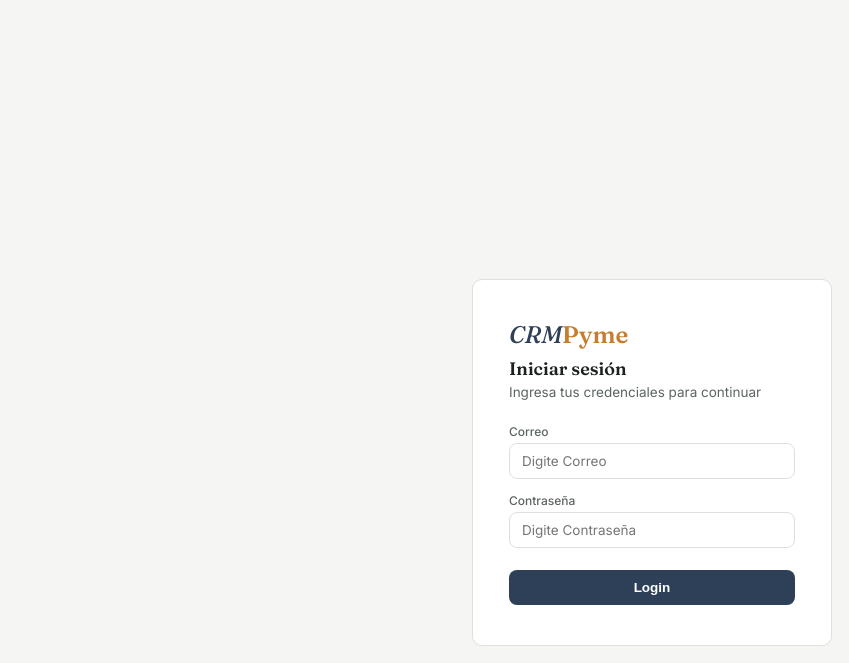
Test case: LoginPage — login exitoso › CP-04: rol gerente redirige a "Dashboard Gerente"
This screenshot has width=849, height=663.
Type "test@crm.local" into the field labelled "Correo" at (652, 460), box [509,442,795,478]
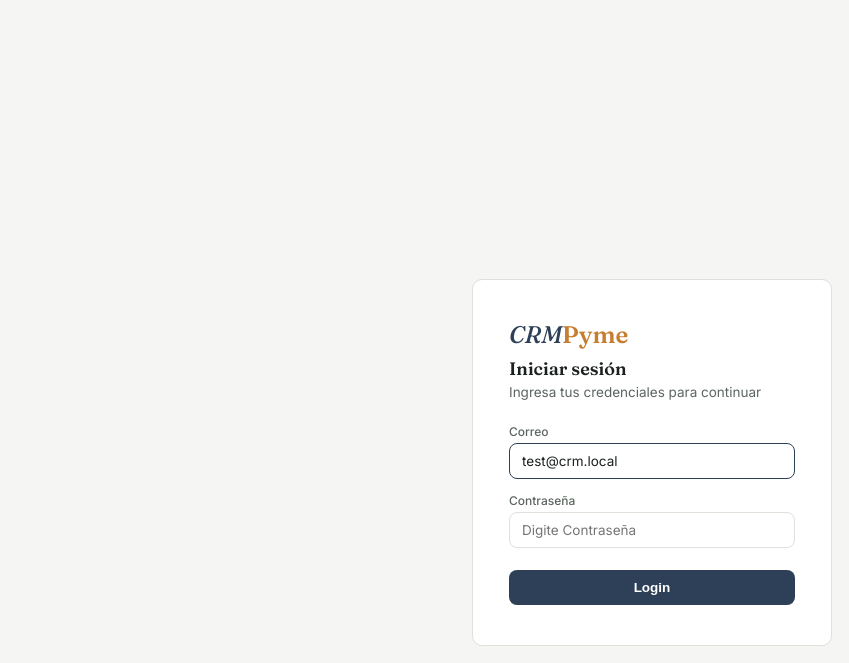
Type "Clave123*" into the password field labelled "Contraseña" at (652, 530), box [509,512,795,548]
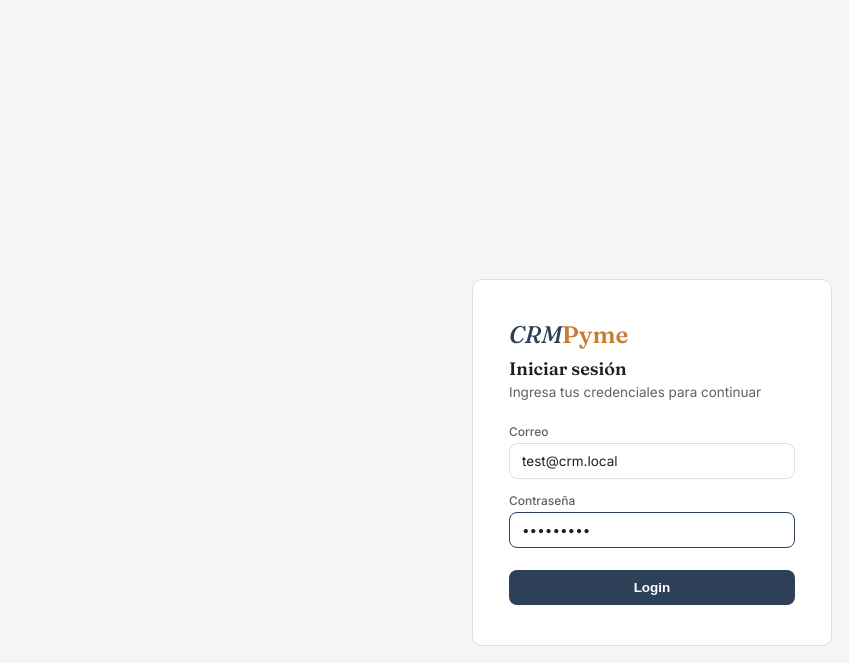
Click the button "Login" at (652, 587), box [509,570,795,604]
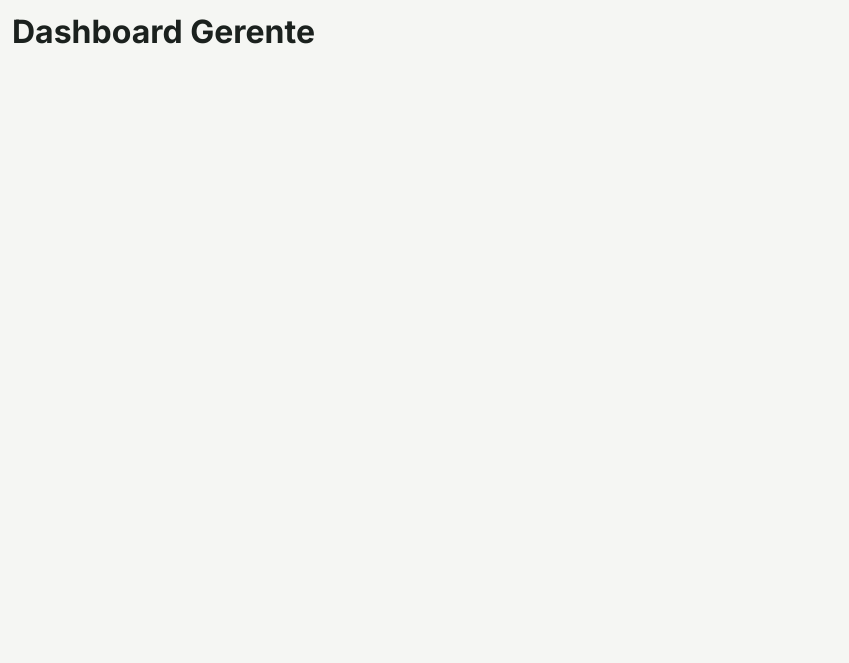
Now the heading "Dashboard Gerente" is shown, box [12,12,315,51]
